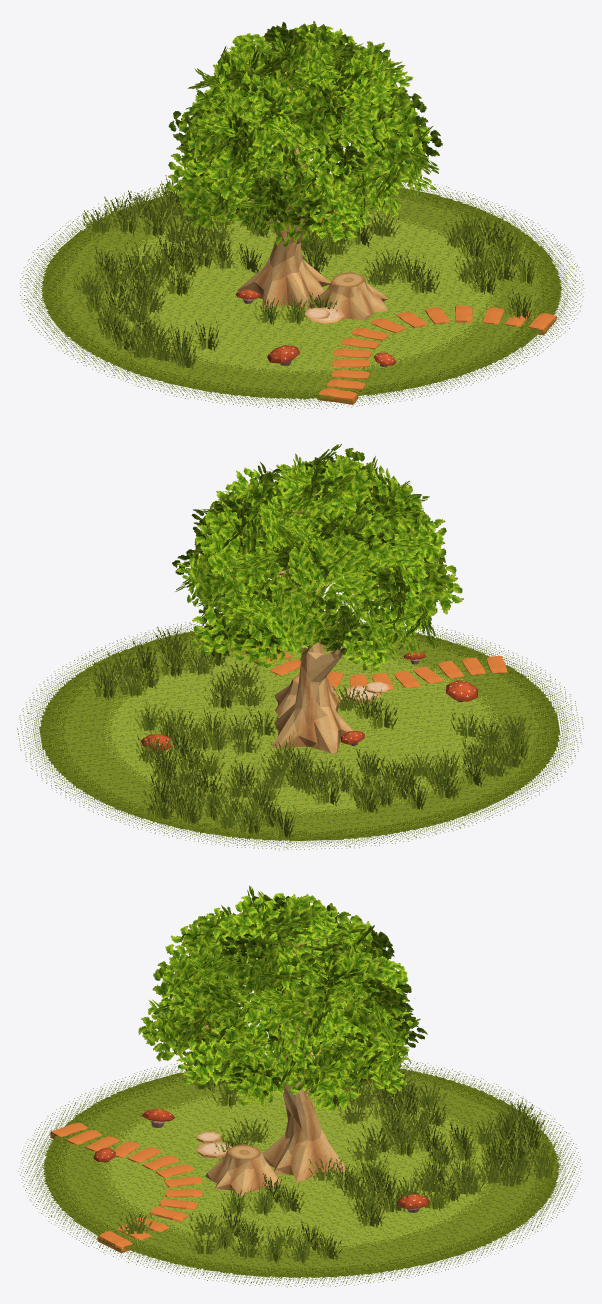
File: low_poly_tree_test.glb
The picture shows the model from 3 angles, top to bottom: view 1: azimuth 30°, elevation 25°; view 2: azimuth 150°, elevation 25°; view 3: azimuth 270°, elevation 25°; orthographic projection.
Parts seen in each view (by area): view 1: Base, Plane.1065, Plane.336, Cube.004_Material.022_0.003, Trunk, Stump; view 2: Base, Plane.1065, Plane.336, Trunk, Cube.004_Material.022_0.003, Stump, Mushroom.001; view 3: Base, Plane.1065, Plane.336, Trunk, Cube.004_Material.022_0.003, Stump.
Boxes of the visible parts, x1,y1,x2,y2 form: Base: (20,173,584,409); Plane.1065: (165,21,442,246); Plane.336: (73,175,541,370); Cube.004_Material.022_0.003: (318,305,556,404); Trunk: (237,46,379,309); Stump: (308,272,388,320); Base: (17,619,583,850); Plane.1065: (172,444,463,673); Plane.336: (87,624,536,838); Trunk: (252,469,382,753); Cube.004_Material.022_0.003: (243,639,507,689); Stump: (274,675,348,716); Mushroom.001: (446,680,477,701); Base: (18,1056,582,1287); Plane.1065: (138,885,427,1111); Plane.336: (118,1053,560,1265); Trunk: (193,916,346,1182); Cube.004_Material.022_0.003: (50,1122,202,1252); Stump: (205,1144,281,1195).
Size of the model in its own units: 21.76 by 12.04 by 21.76.
8 materials, 7 textured.
